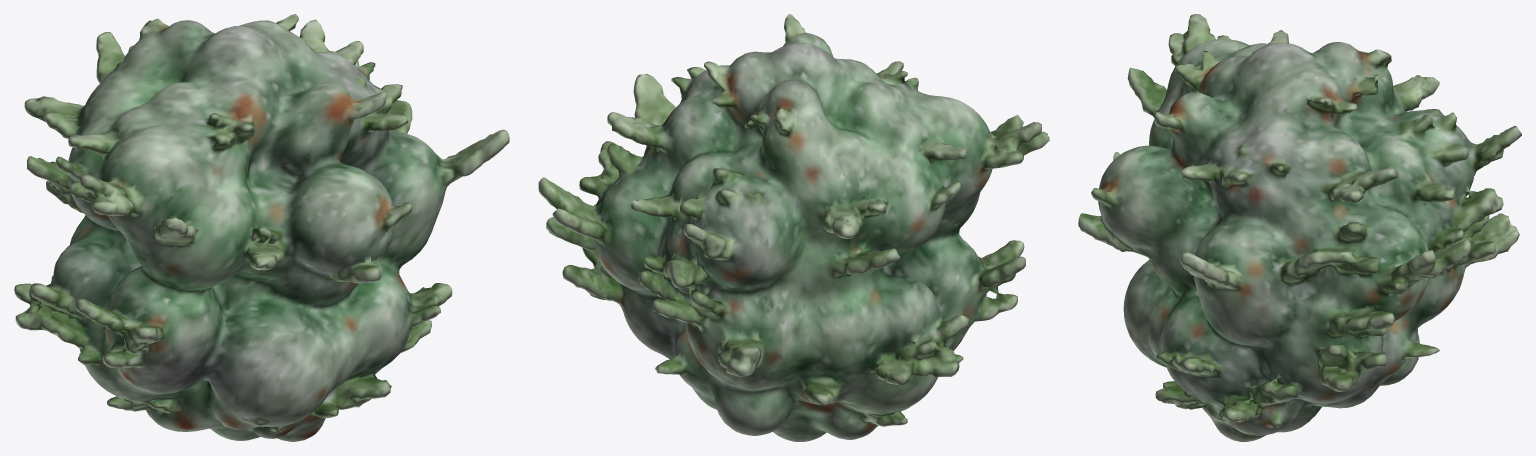
Rendered from nug_461f32af.obj.
3 renders of one model, left to right at view 1: azimuth 30°, elevation 25°; view 2: azimuth 150°, elevation 25°; view 3: azimuth 270°, elevation 25°, orthographic. The views are drawn at different scales.
Bounding box in the file's own units: 1.99 × 1.82 × 1.92.
